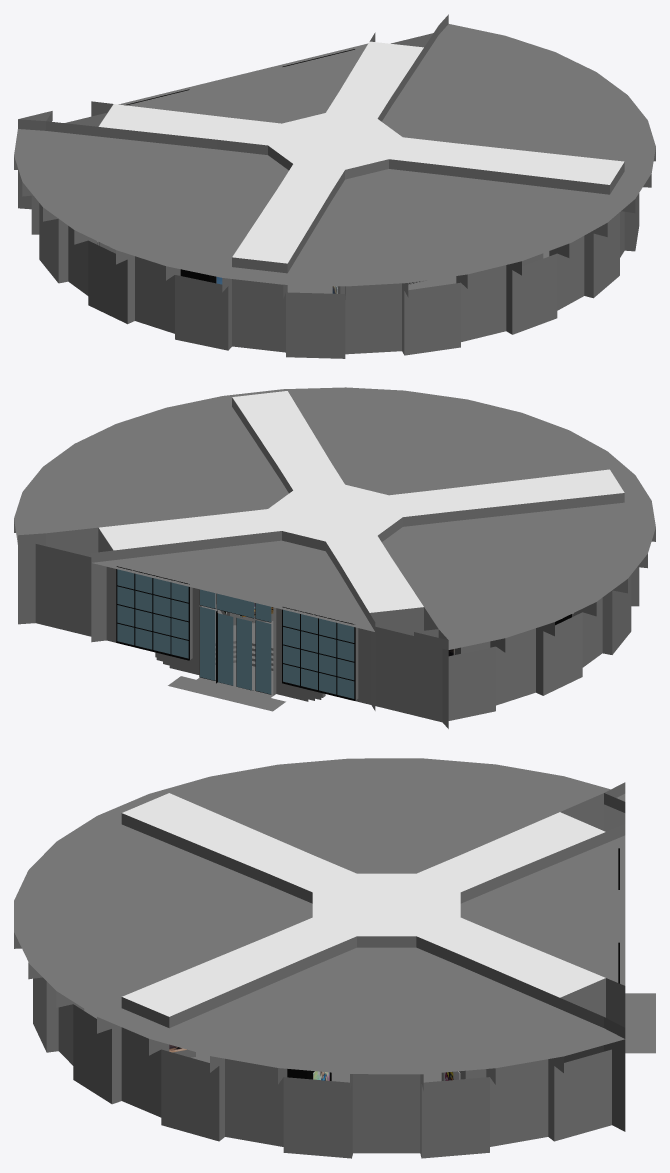
Rendered from Dec.fbx.
3 views of the same model, one above another, from view 1: azimuth 30°, elevation 25°; view 2: azimuth 150°, elevation 25°; view 3: azimuth 270°, elevation 25° (orthographic). The views are drawn at different scales.
Parts seen in each view (by area): view 1: F_17_Top_White, F_12_top, F_16_Stone, F_15_wood_plank, F_03_Concrete, F_04_floor, F_09_Entry; view 2: F_17_Top_White, F_12_top, No_19_Glass, F_09_Entry, F_16_Stone, F_15_wood_plank, F_03_Concrete, F_05_Black, F_07_Floor, F_06_Wood; view 3: F_17_Top_White, F_12_top, F_16_Stone, F_15_wood_plank, F_03_Concrete, F_07_Floor.
Boxes of the visible parts, x1,y1,x2,y2 form: F_17_Top_White: [14, 24, 655, 286]; F_12_top: [98, 41, 624, 263]; F_16_Stone: [14, 104, 655, 354]; F_15_wood_plank: [39, 193, 639, 358]; F_03_Concrete: [18, 14, 609, 272]; F_04_floor: [287, 276, 456, 293]; F_09_Entry: [64, 33, 433, 126]; F_17_Top_White: [14, 387, 655, 649]; F_12_top: [99, 391, 624, 612]; No_19_Glass: [117, 569, 354, 698]; F_09_Entry: [35, 544, 442, 722]; F_16_Stone: [14, 520, 655, 728]; F_15_wood_plank: [448, 575, 631, 720]; F_03_Concrete: [113, 397, 624, 649]; F_05_Black: [116, 566, 571, 700]; F_07_Floor: [168, 662, 285, 711]; F_06_Wood: [155, 463, 477, 701]; F_17_Top_White: [14, 758, 625, 1074]; F_12_top: [122, 793, 605, 1016]; F_16_Stone: [14, 782, 625, 1157]; F_15_wood_plank: [33, 977, 611, 1158]; F_03_Concrete: [121, 793, 625, 1038]; F_07_Floor: [625, 993, 655, 1053].
Bounding box in the file's own units: 35755 × 6250 × 30719.
